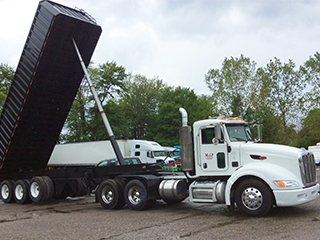truck: (2, 1, 318, 214)
